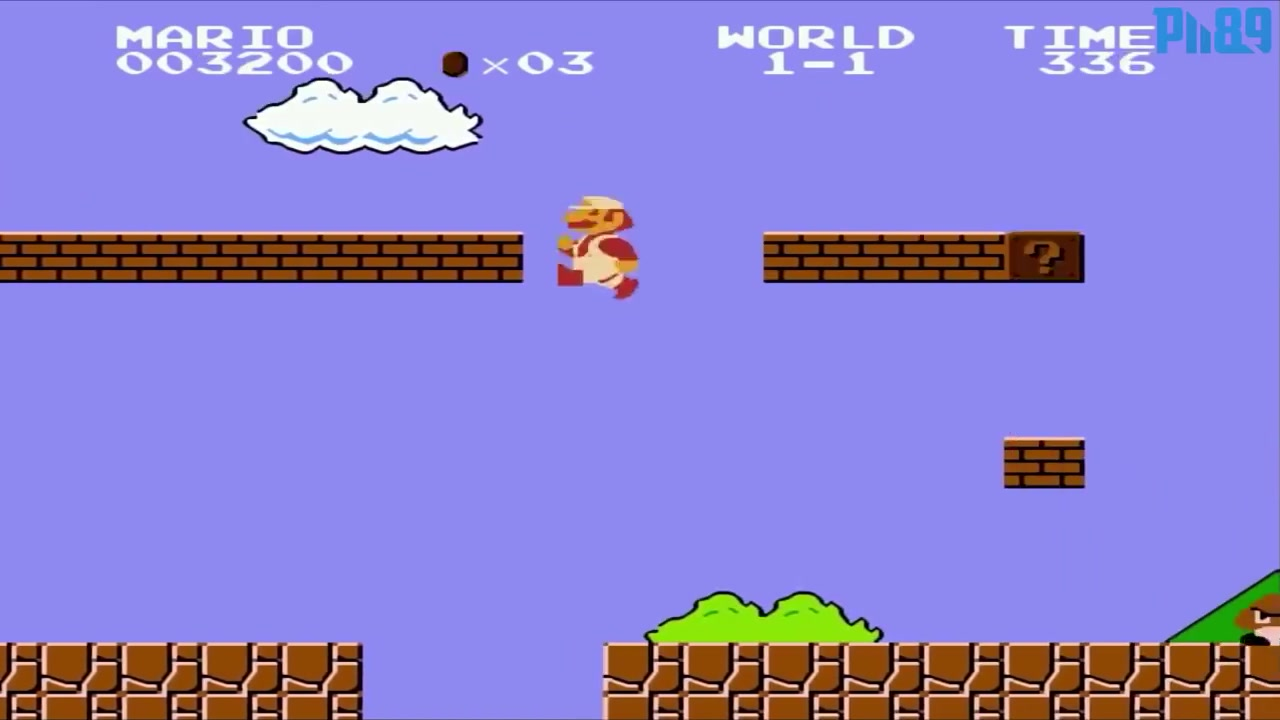mario: (545, 185, 641, 299)
